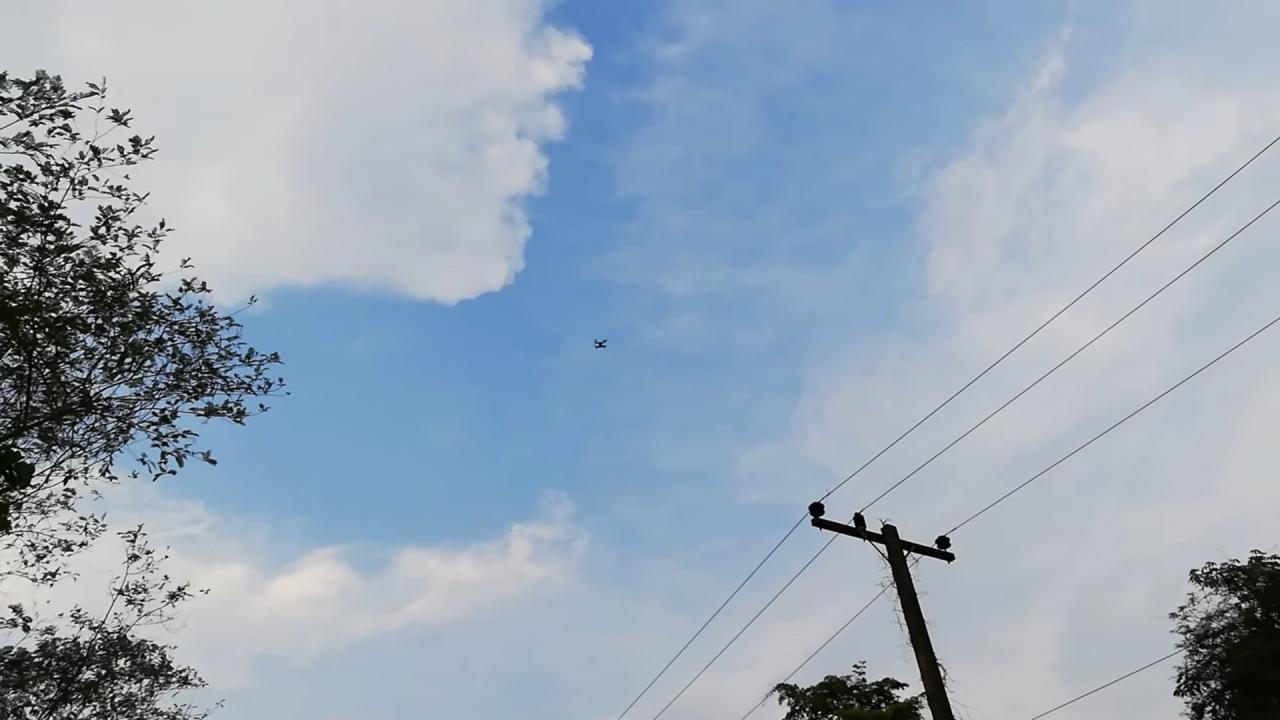Drone: (588, 332, 614, 356)
